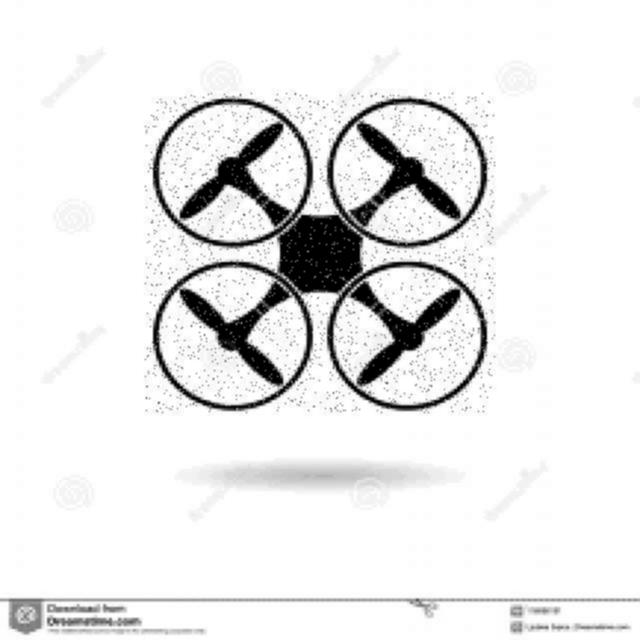drone: (146, 94, 496, 414)
